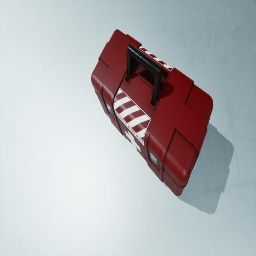FirstAidBox ,: (91, 29, 213, 196)
